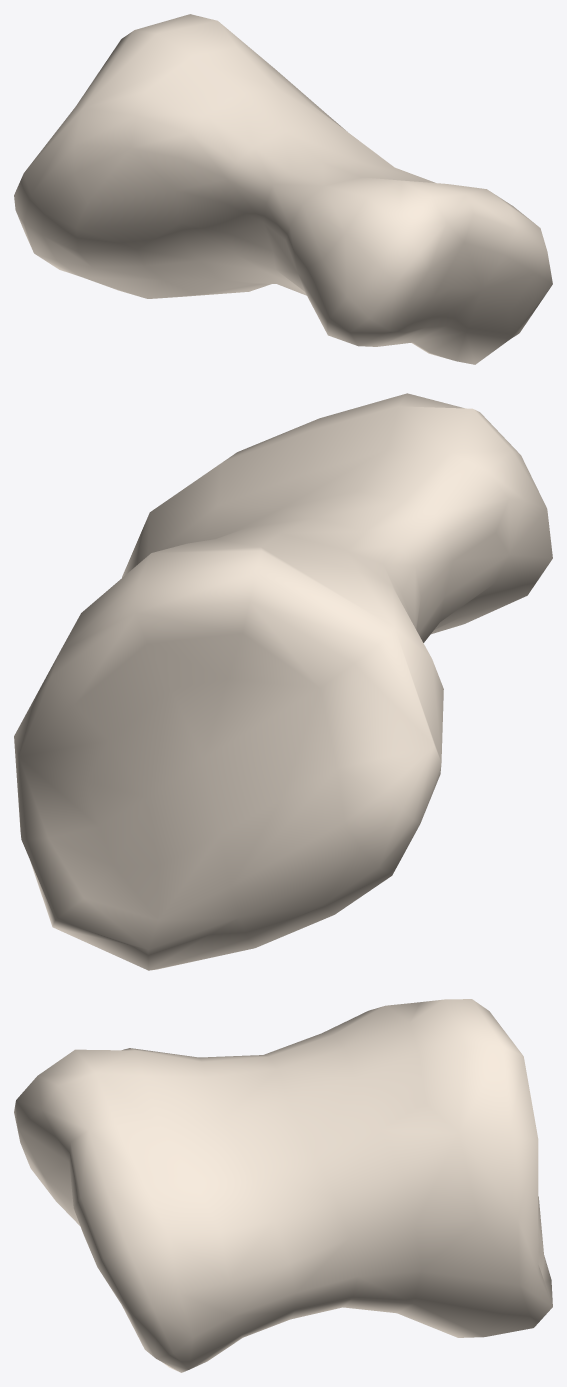
Rendered from left_toe_4_middle.glb.
The picture shows the model from 3 angles, top to bottom: view 1: azimuth 30°, elevation 25°; view 2: azimuth 150°, elevation 25°; view 3: azimuth 270°, elevation 25°; orthographic projection. The views are drawn at different scales.
Parts seen in each view (by area): view 1: Middle phalanx of fourth finger of foot.r; view 2: Middle phalanx of fourth finger of foot.r; view 3: Middle phalanx of fourth finger of foot.r.
Part boxes in pixels (x1,y1,x2,y2): Middle phalanx of fourth finger of foot.r: (14,14,552,364); Middle phalanx of fourth finger of foot.r: (14,393,552,970); Middle phalanx of fourth finger of foot.r: (14,999,552,1372).
Bounding box in the file's own units: 0.0112 × 0.00826 × 0.0137.
